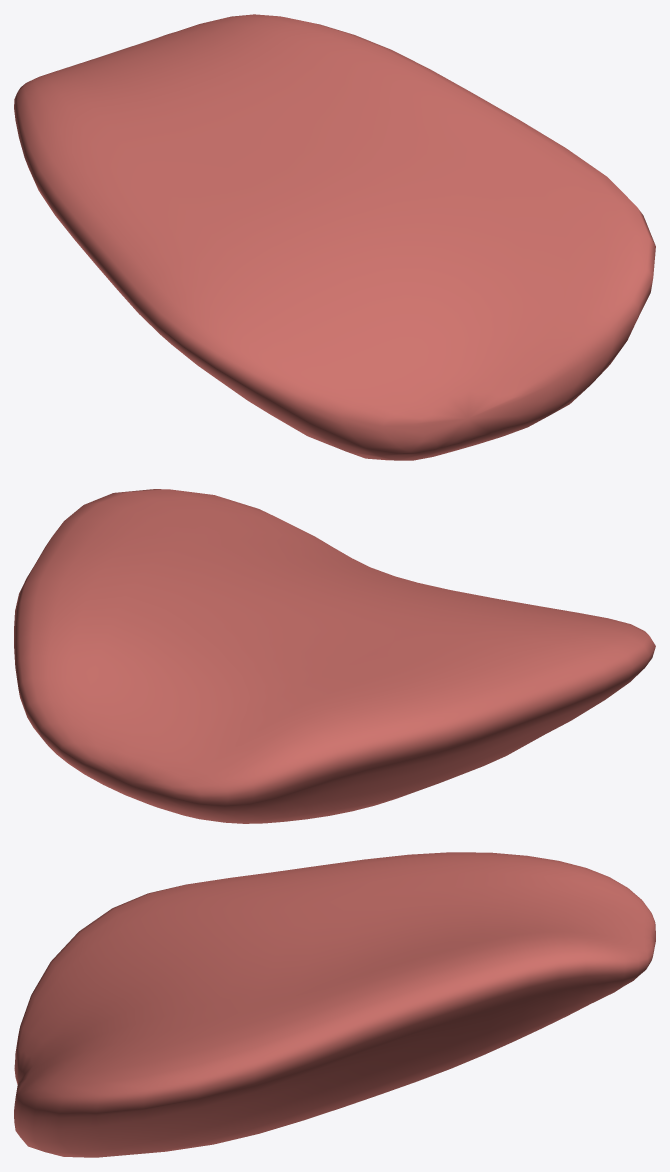
The picture shows the model from 3 angles, top to bottom: view 1: azimuth 30°, elevation 25°; view 2: azimuth 150°, elevation 25°; view 3: azimuth 270°, elevation 25°; orthographic projection. The views are drawn at different scales.
Visible parts, largest first — view 1: 左侧胫骨粗隆皮下囊; view 2: 左侧胫骨粗隆皮下囊; view 3: 左侧胫骨粗隆皮下囊.
Part boxes in pixels (x1,y1,x2,y2): 左侧胫骨粗隆皮下囊: [14, 14, 655, 460]; 左侧胫骨粗隆皮下囊: [14, 489, 655, 823]; 左侧胫骨粗隆皮下囊: [14, 852, 655, 1157].
Bounding box in the file's own units: 0.0274 × 0.013 × 0.0337.
